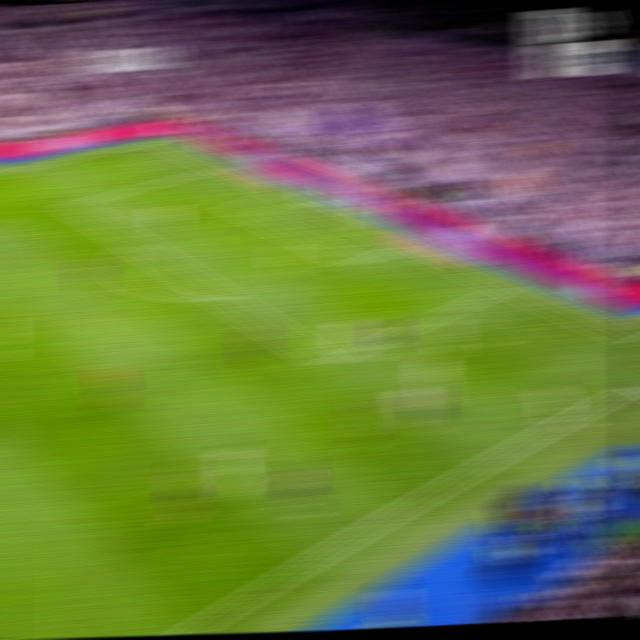bigarea_bottom_inner: (314, 351, 340, 374)
bigarea_bottom_outter: (493, 278, 517, 293)
bigarea_top_inner: (61, 197, 86, 212)
bigarea_top_outter: (208, 157, 232, 172)
bottom_arc_area_intersection: (209, 288, 235, 305)
corner: (148, 131, 173, 143)
smallarea_bottom_inner: (343, 253, 367, 272)
smallarea_bottom_outter: (393, 237, 417, 250)
smallarea_top_inner: (224, 198, 246, 211)
top_arc_area_intersection: (121, 233, 145, 249)
